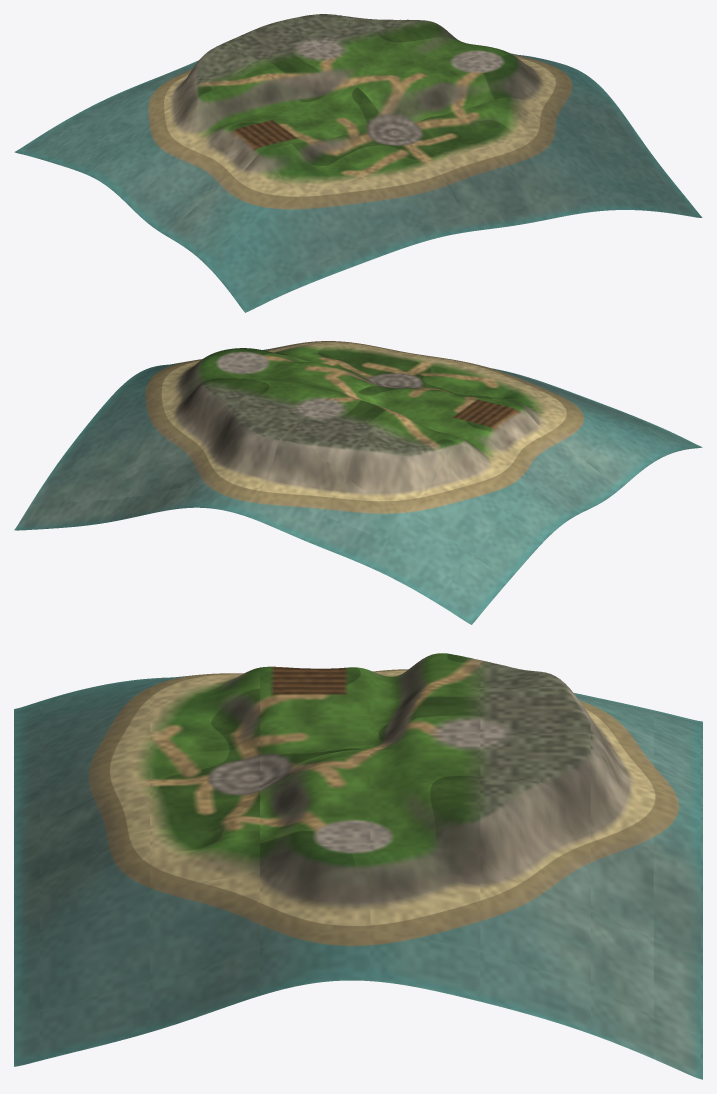
The model's file is SM_island_ground.glb.
3 renders of one model, top to bottom at view 1: azimuth 30°, elevation 25°; view 2: azimuth 150°, elevation 25°; view 3: azimuth 270°, elevation 25°, orthographic. The views are drawn at different scales.
Parts seen in each view (by area): view 1: SM_island_ground; view 2: SM_island_ground; view 3: SM_island_ground.
Part boxes in pixels (x1,y1,x2,y2): SM_island_ground: (14,14,702,312); SM_island_ground: (14,341,702,624); SM_island_ground: (14,653,702,1079).
Bounding box in the file's own units: 160 × 40.31 × 140.
Materials: 1 (1 with a texture image).
